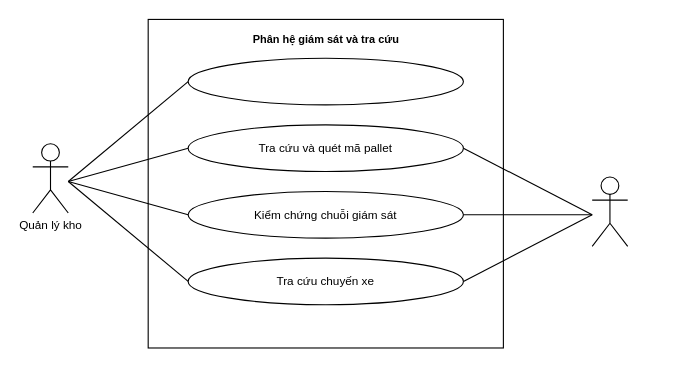
Image size: 682x367. Some labels were removed from this diagram. The box of each missing label's shape, as (x1, y1, x2, y2) in pixels:
Nhân viên vận hành: (591, 176, 628, 246)
Theo dõi tổng quan kho: (187, 57, 463, 105)
